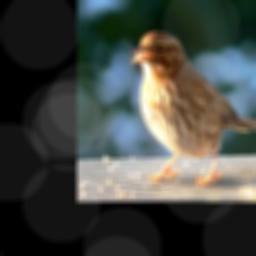Sparrow: (130, 28, 256, 186)
